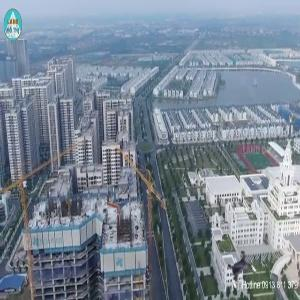drone: (223, 252, 259, 288)
